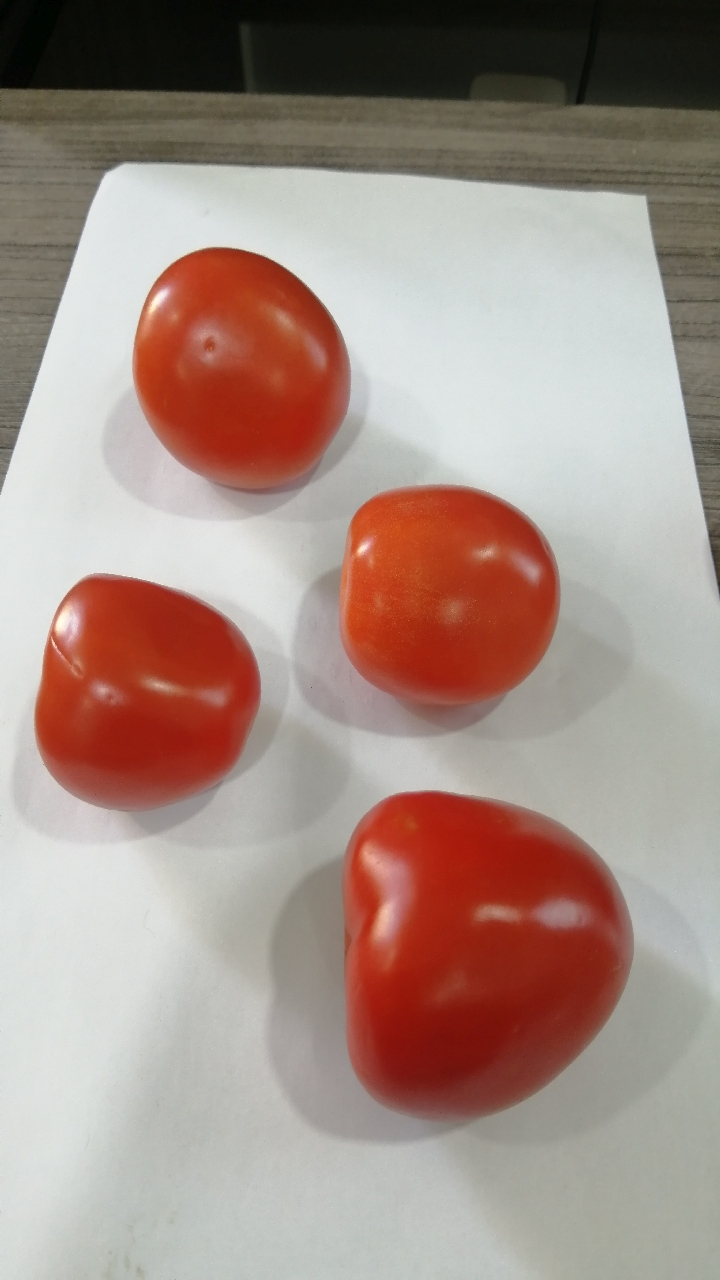tomateRojo: (328, 766, 652, 1157), (18, 552, 291, 842), (121, 225, 363, 505), (323, 474, 574, 722)
